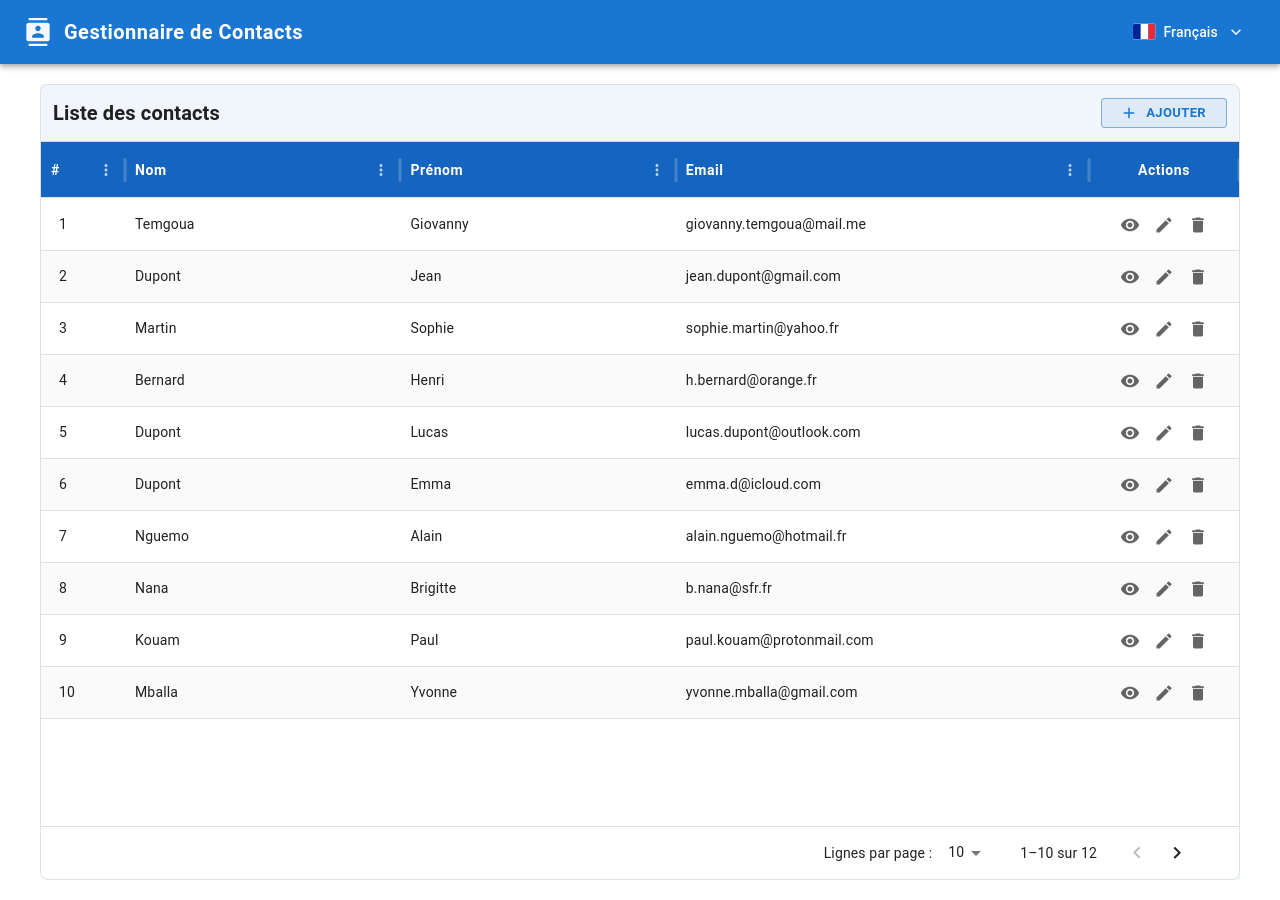
App › should show standard delete warning when contact is not linked as parent
The width and height of the screenshot is (1280, 900).
Step 1. Click the button named "delete-1" → {"x": 1198, "y": 224}, box [1183, 210, 1213, 240]
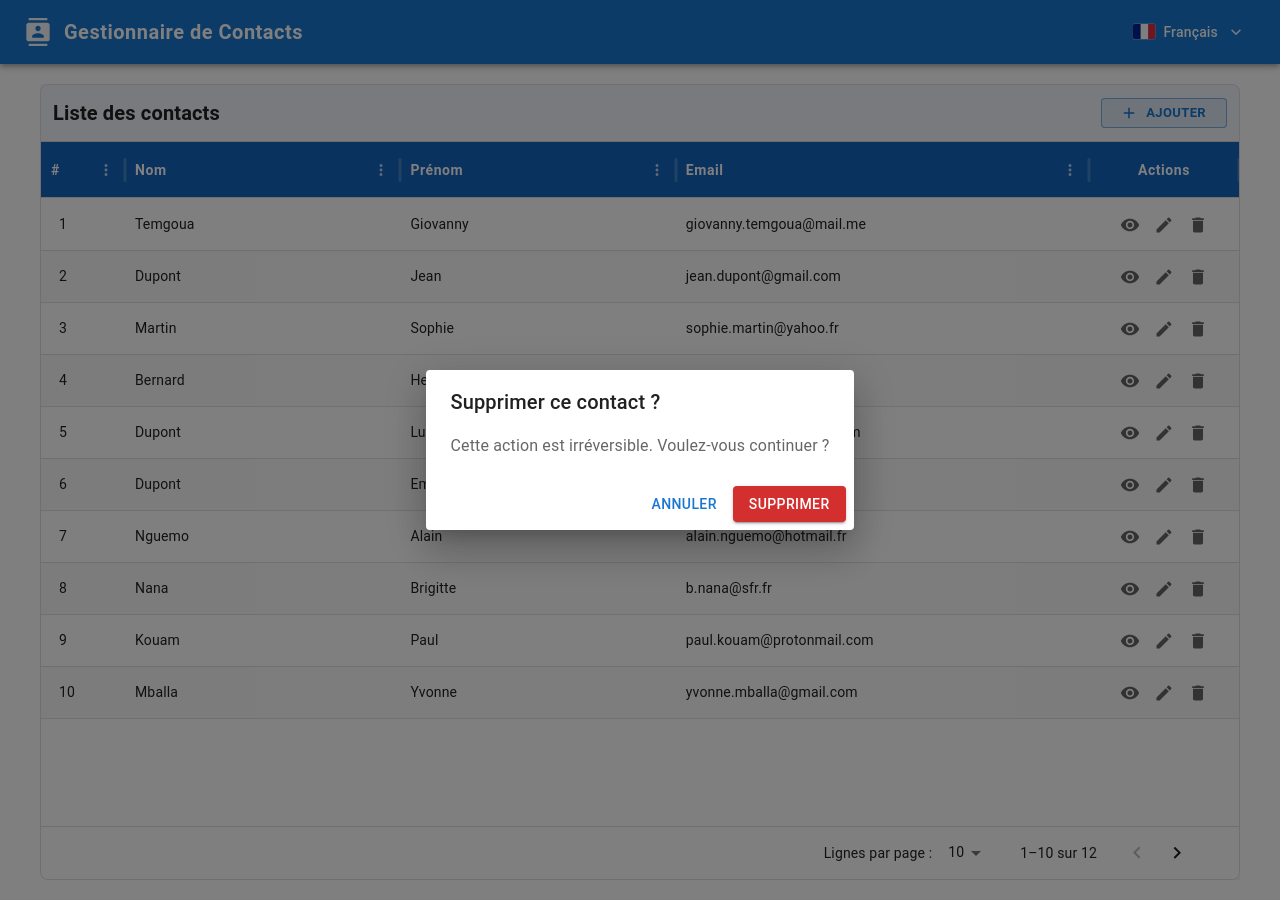
Now the text "Cette action est irr" is shown, box [450, 436, 830, 455]
